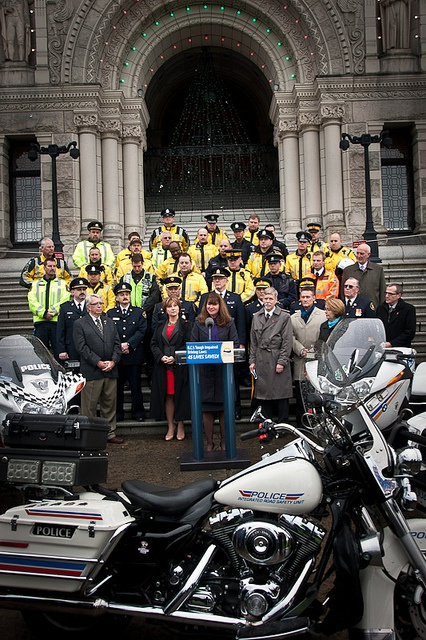non-vehicle: (0, 339, 425, 638), (304, 316, 426, 512), (0, 333, 86, 446)
